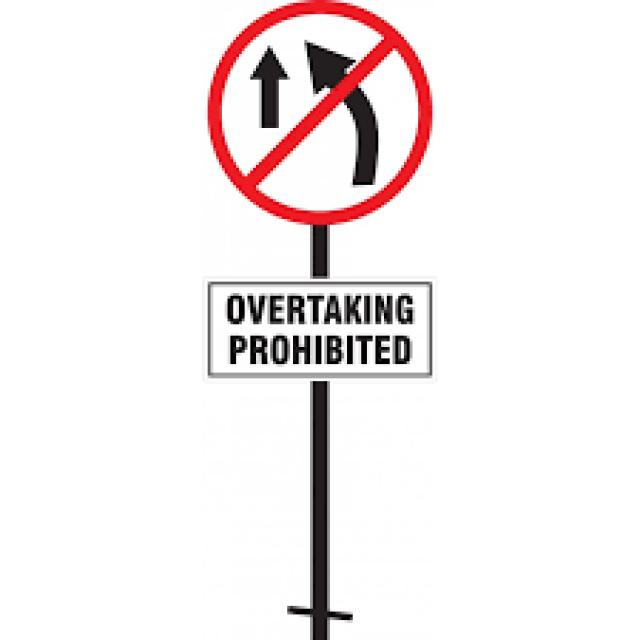OVERTAKING_PROHIBITED: (204, 0, 436, 232)
